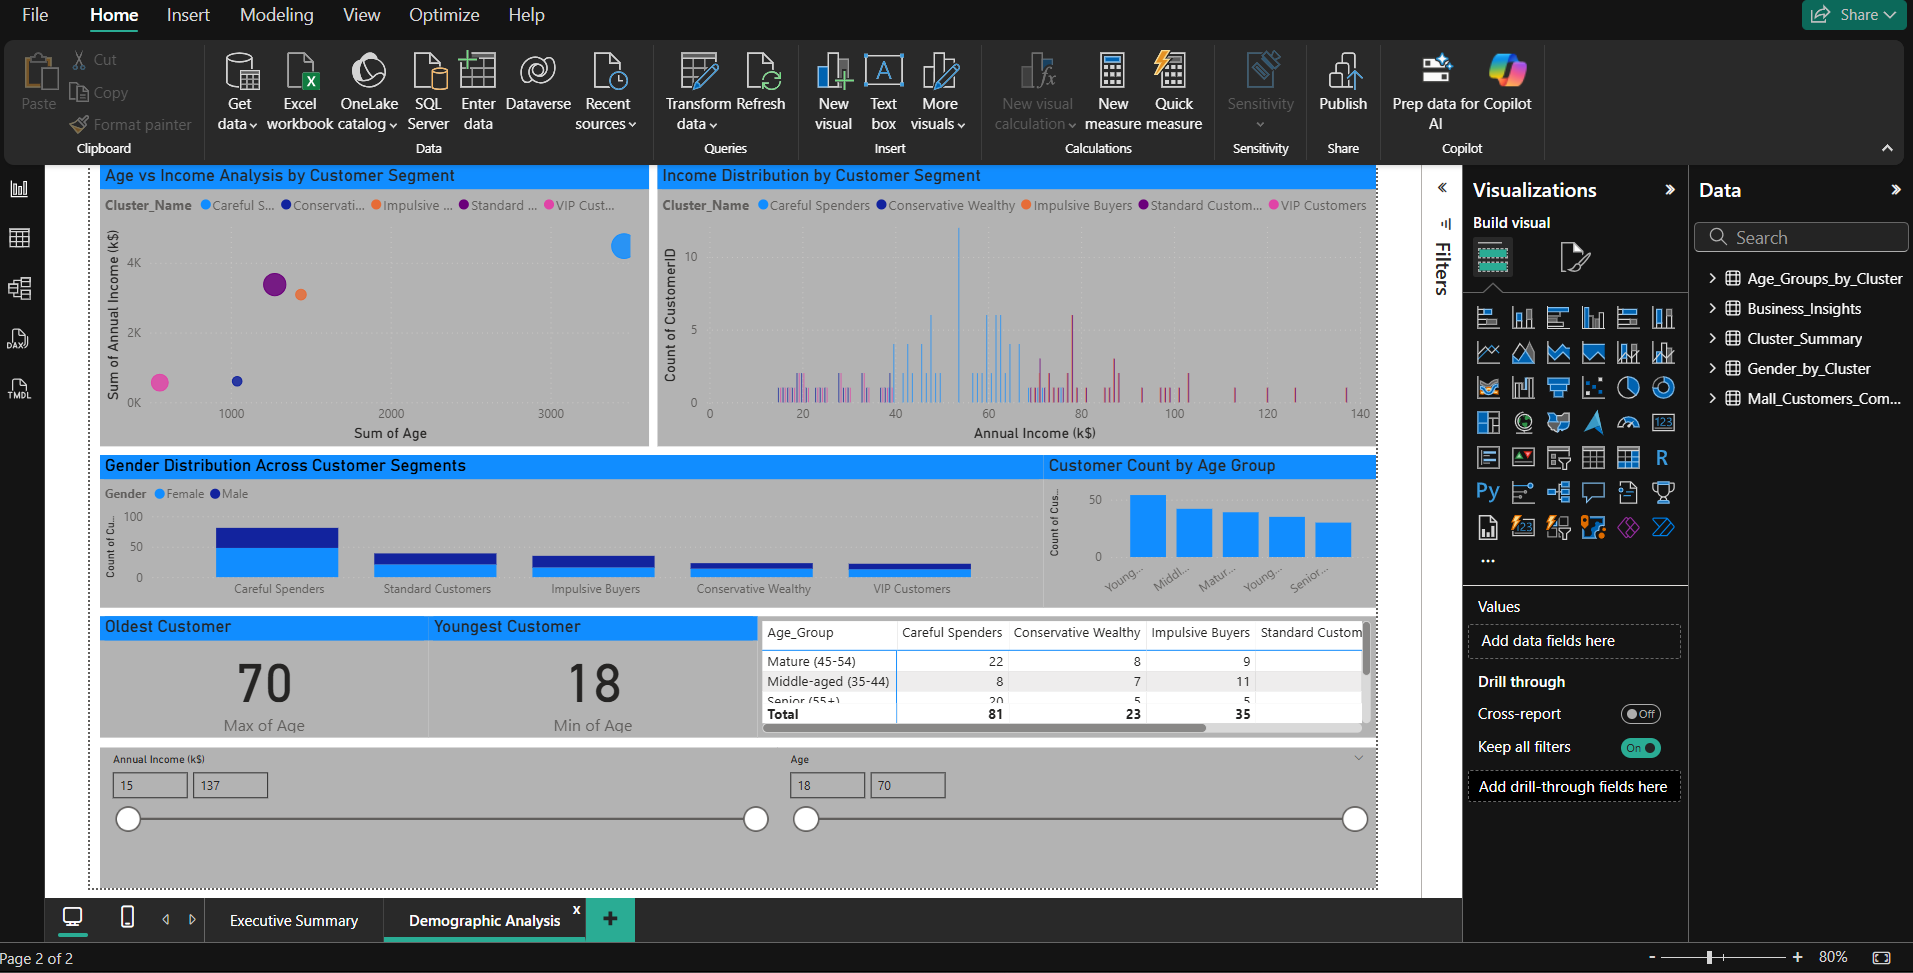

Layout of this report page (visuals, bound fields, positions):
{"tool":"powerbi","page":{"name":"Demographic Analysis","canvas":[1280,720],"ordinal":1},"visuals":[{"type":"scatterChart","title":"Age vs Income Analysis by Customer Segment","fields":{"Y":["Sum(Mall_Customers_Complete.Annual Income (k$))"],"X":["Sum(Mall_Customers_Complete.Age)"],"Series":["Mall_Customers_Complete.Cluster_Name"],"Size":["Sum(Mall_Customers_Complete.Spending Score (1-100))"]},"box":[10,0,546.1,279.9],"z":0},{"type":"columnChart","title":"Gender Distribution Across Customer Segments","fields":{"Category":["Mall_Customers_Complete.Cluster_Name"],"Y":["CountNonNull(Mall_Customers_Complete.CustomerID)"],"Series":["Mall_Customers_Complete.Gender"]},"box":[10,288.6,939.2,151.8],"z":1000},{"type":"clusteredColumnChart","title":"Income Distribution by Customer Segment","fields":{"Category":["Mall_Customers_Complete.Annual Income (k$)"],"Y":["CountNonNull(Mall_Customers_Complete.CustomerID)"],"Series":["Mall_Customers_Complete.Cluster_Name"]},"box":[564.8,0,715.3,279.9],"z":2000},{"type":"pivotTable","fields":{"Rows":["Mall_Customers_Complete.Age_Group"],"Columns":["Mall_Customers_Complete.Cluster_Name"],"Values":["CountNonNull(Mall_Customers_Complete.CustomerID)"]},"box":[664.3,449.1,615.8,120.7],"z":3000},{"type":"card","title":"Youngest Customer","fields":{"Values":["Min(Mall_Customers_Complete.Age)"]},"box":[337.1,449.1,327.2,120.7],"z":4000},{"type":"card","title":"Oldest Customer","fields":{"Values":["Max(Mall_Customers_Complete.Age)"]},"box":[10,449.1,327.2,120.7],"z":5000},{"type":"clusteredColumnChart","title":"Customer Count by Age Group","fields":{"Category":["Mall_Customers_Complete.Age_Group"],"Y":["CountNonNull(Mall_Customers_Complete.CustomerID)"]},"box":[949.1,288.6,330.9,151.8],"z":6000},{"type":"slicer","fields":{"Values":["Mall_Customers_Complete.Age"]},"box":[684.2,579.7,595.9,140.6],"z":7000},{"type":"slicer","fields":{"Values":["Mall_Customers_Complete.Annual Income (k$)"]},"box":[10,579.7,674.2,140.6],"z":8000}]}

Visuals, with their boxes on the page's 1280x720 design canvas (x1, y1, x2, y2). These are canvas units, not pixel positions in the 1913x973 screenshot, which may show the page scaled, cropped or inside an application window:
"Age vs Income Analysis by Customer Segment" scatterChart: BBox(10, 0, 556, 280)
"Gender Distribution Across Customer Segments" columnChart: BBox(10, 289, 949, 440)
"Income Distribution by Customer Segment" clusteredColumnChart: BBox(565, 0, 1280, 280)
pivotTable - Mall_Customers_Complete.Age_Group x Mall_Customers_Complete.Cluster_Name: BBox(664, 449, 1280, 570)
"Youngest Customer" card: BBox(337, 449, 664, 570)
"Oldest Customer" card: BBox(10, 449, 337, 570)
"Customer Count by Age Group" clusteredColumnChart: BBox(949, 289, 1280, 440)
slicer - Mall_Customers_Complete.Age: BBox(684, 580, 1280, 720)
slicer - Mall_Customers_Complete.Annual Income (k$): BBox(10, 580, 684, 720)
